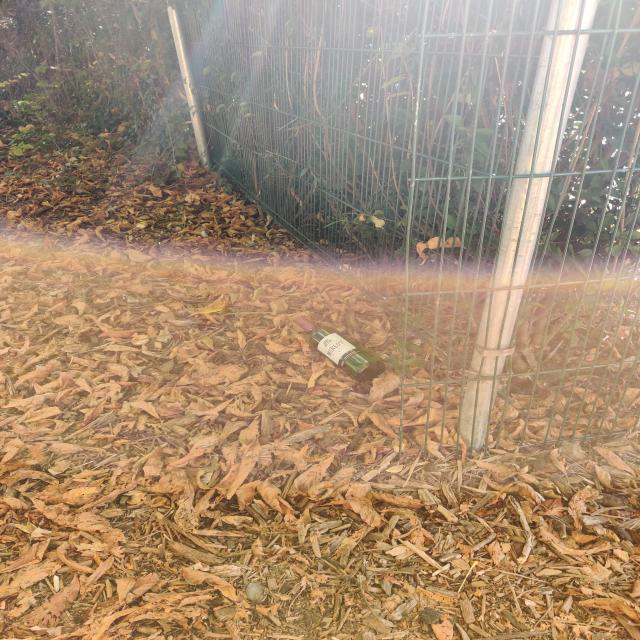litter: (294, 316, 385, 382)
